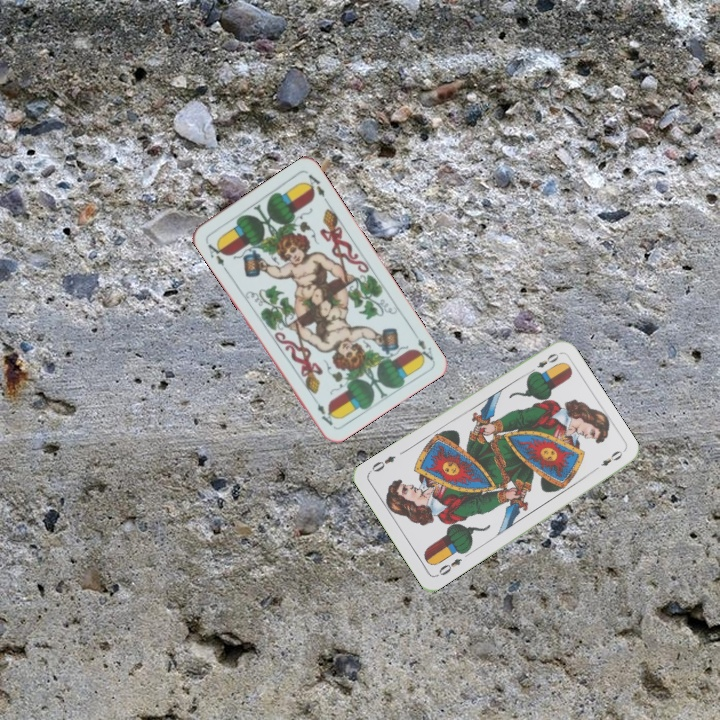EA: (202, 237, 229, 273), (409, 328, 436, 364)
EO: (525, 349, 561, 377), (432, 554, 464, 579)
